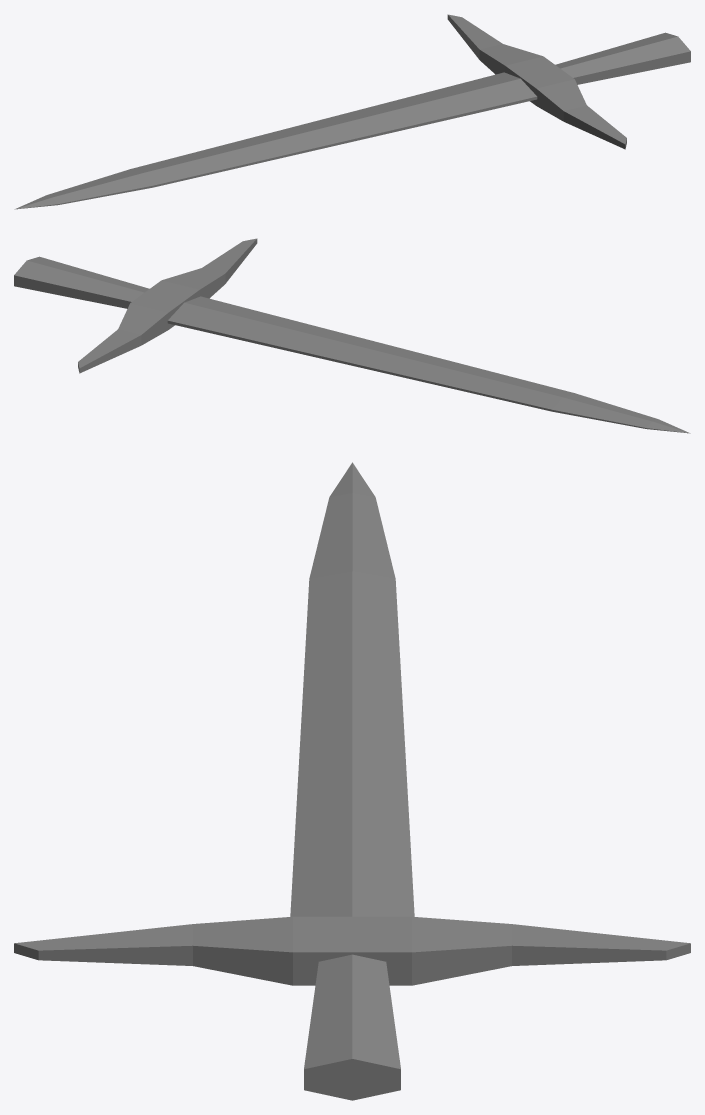
File: Sword.fbx
3 renders of one model, top to bottom at view 1: azimuth 30°, elevation 25°; view 2: azimuth 150°, elevation 25°; view 3: azimuth 270°, elevation 25°, orthographic. The views are drawn at different scales.
Visible parts, largest first — view 1: Sword; view 2: Sword; view 3: Sword.
Part boxes in pixels (box(x1,y1,x2,y2)): Sword: box(14, 14, 690, 209); Sword: box(14, 238, 690, 433); Sword: box(14, 462, 690, 1100).
Size of the model in its own units: 143 by 4.53 by 66.36.
Materials: 1 (1 with a texture image).
